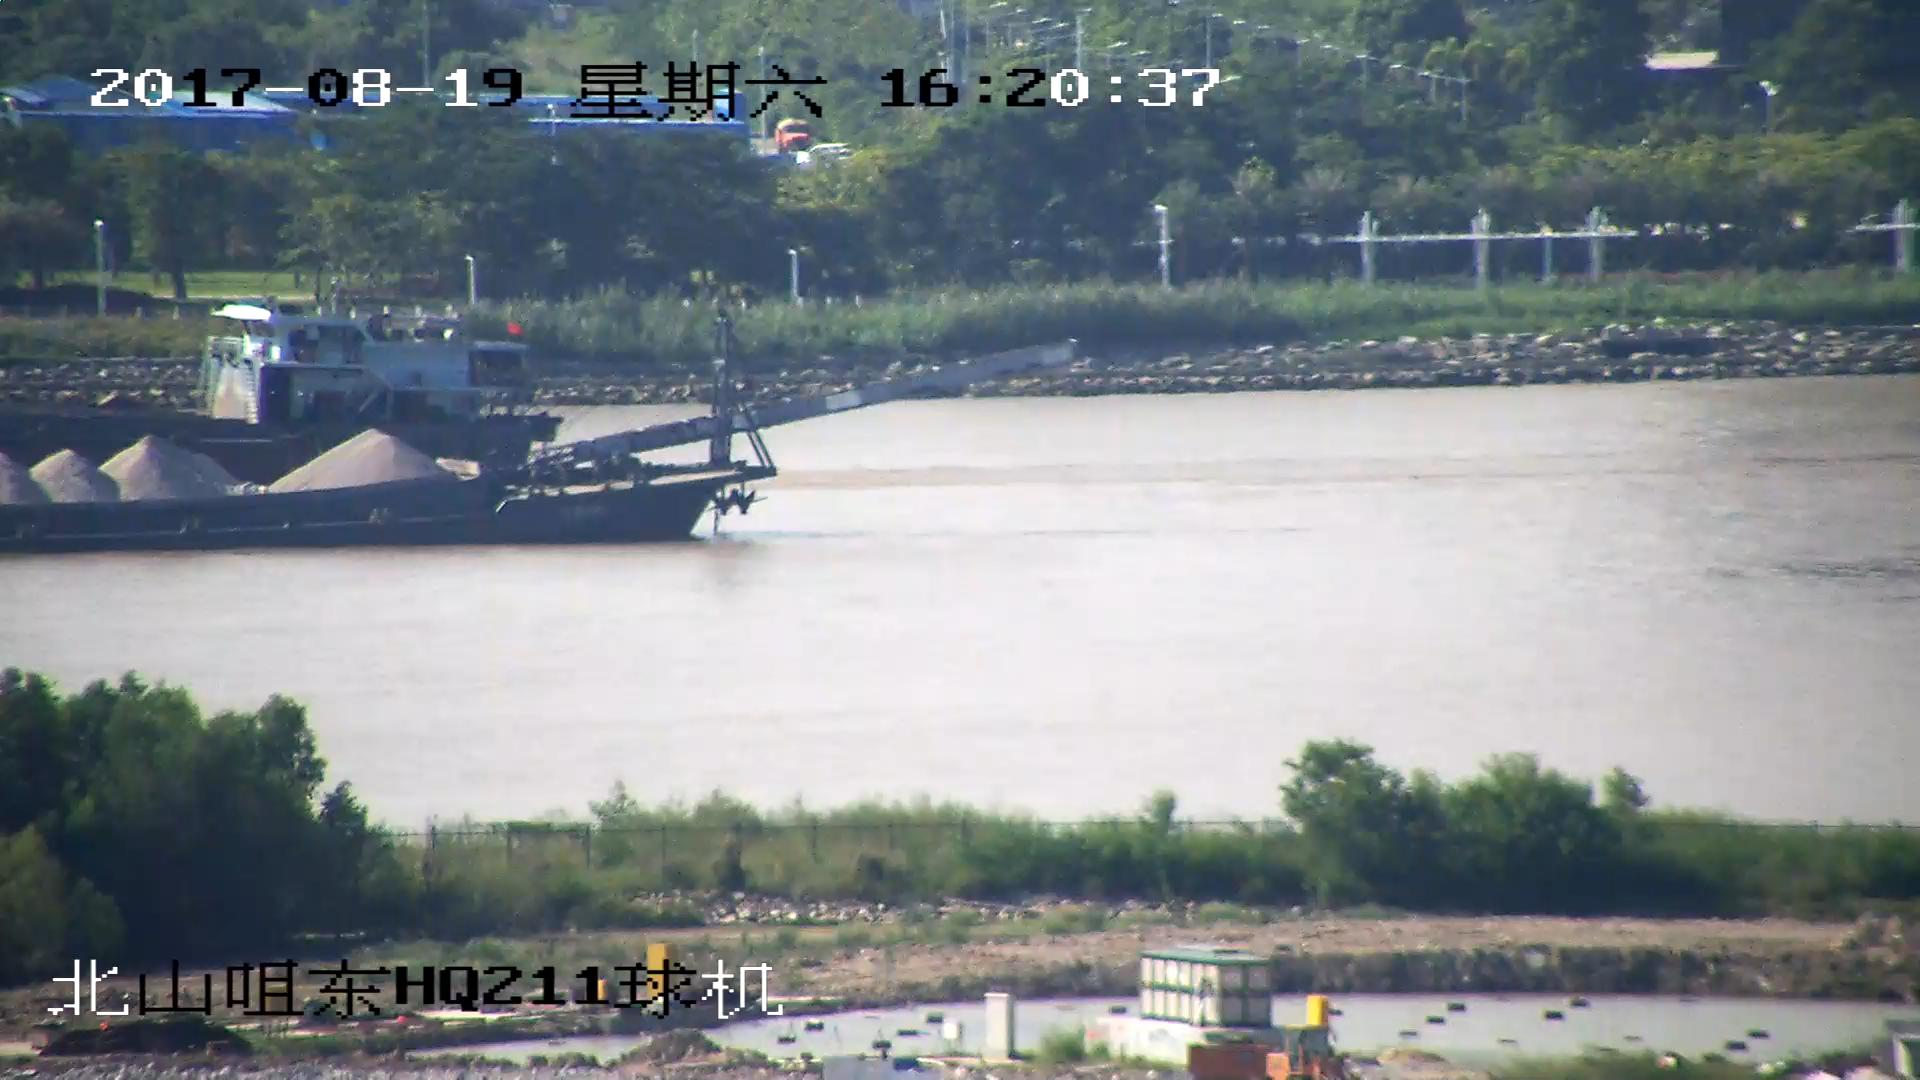bulk cargo carrier: (1, 300, 540, 465)
ore carrier: (1, 338, 1068, 555)
